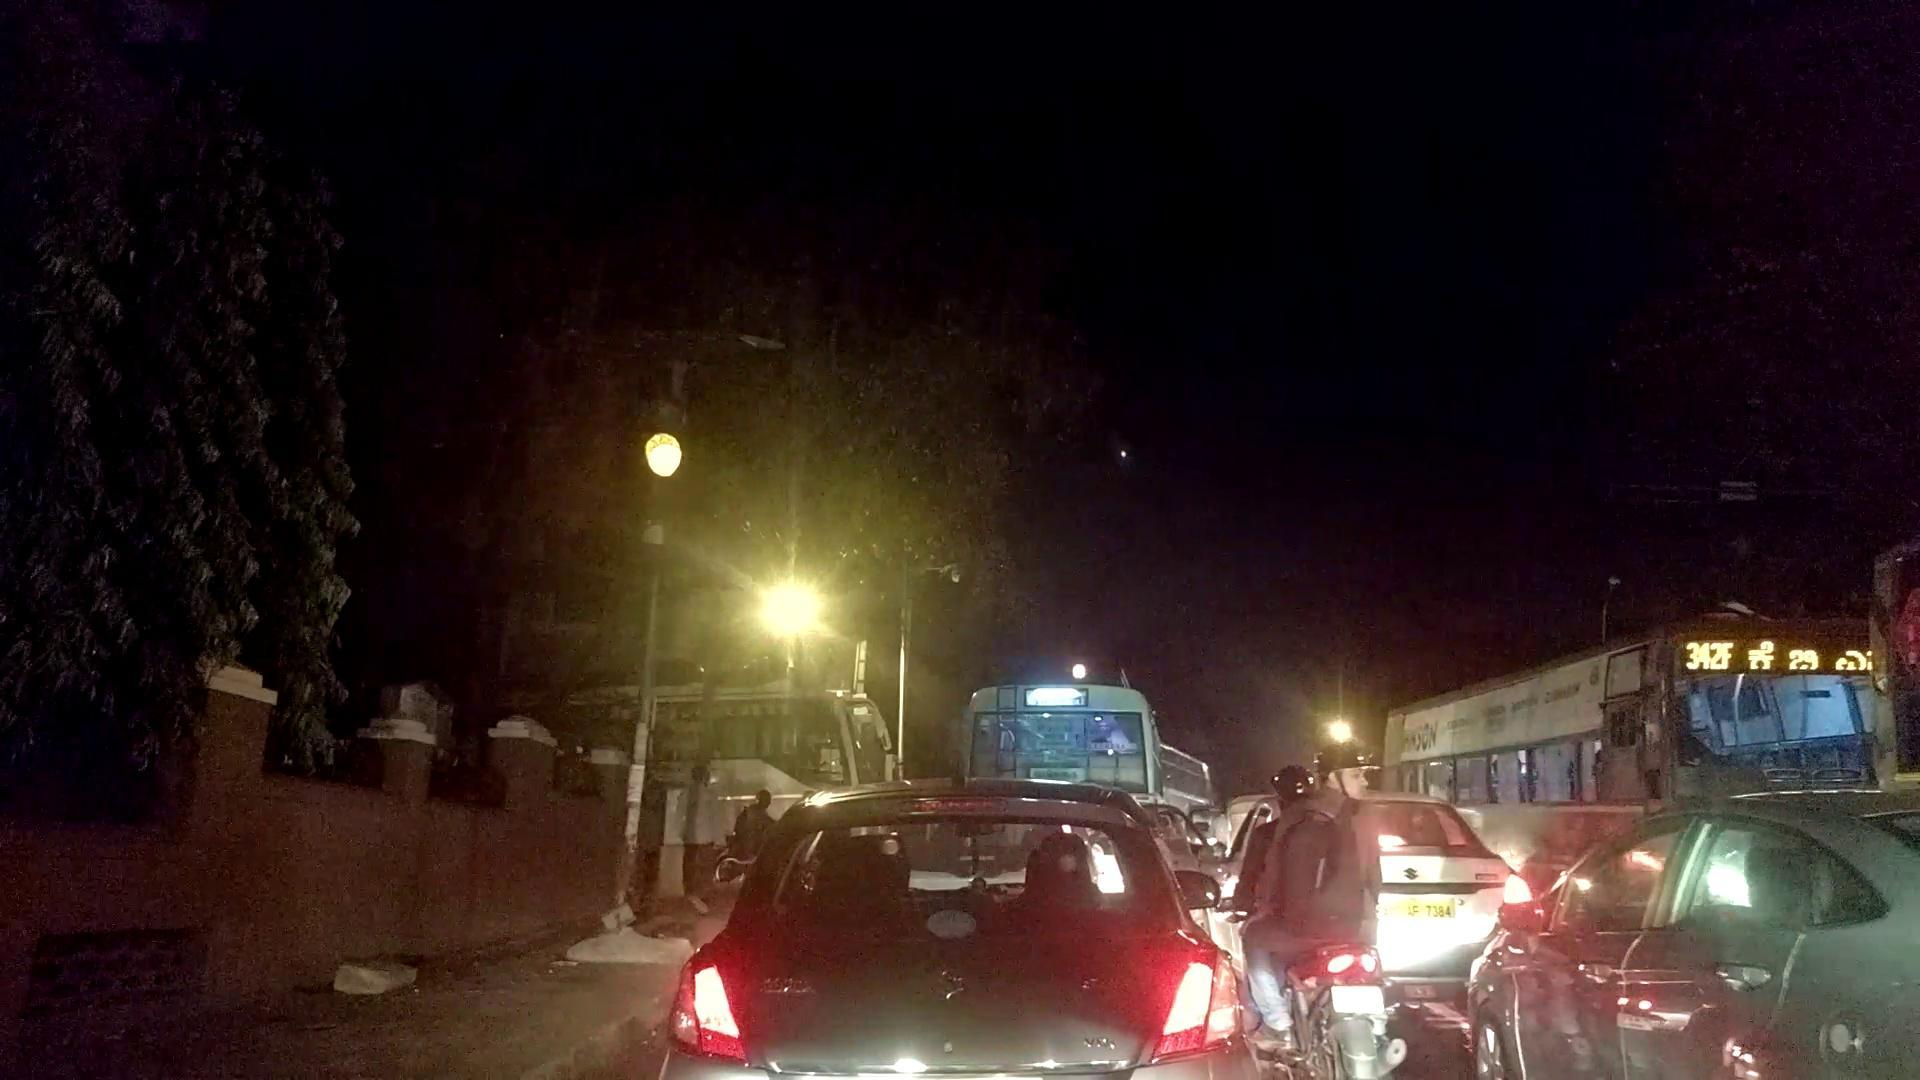on: (640, 433, 927, 835)
